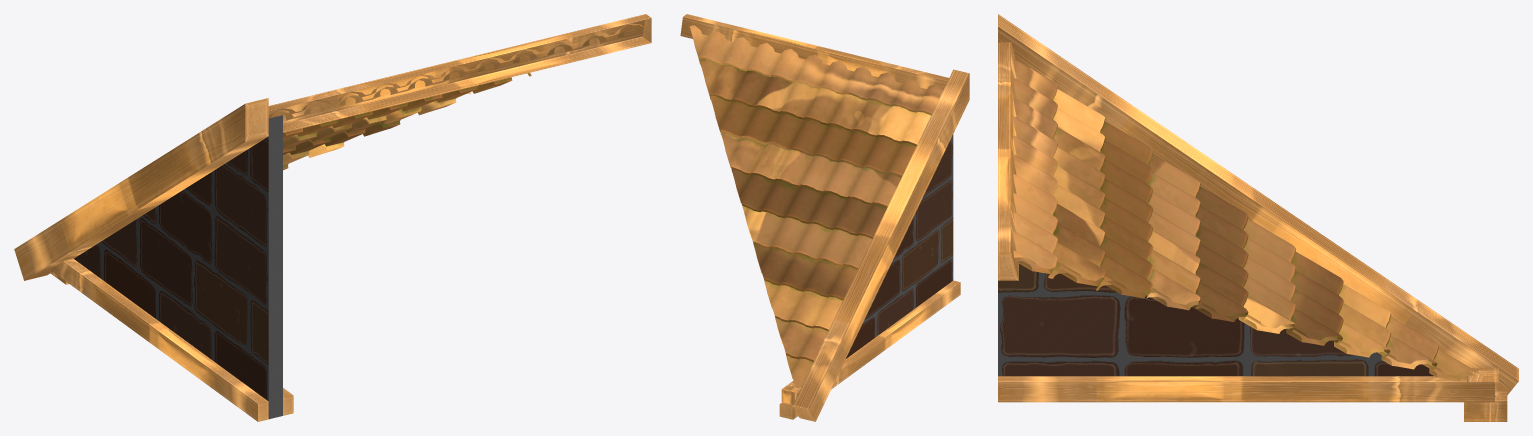
Rendered from SM_Roof_03.fbx.
3 views of the same model, side by side, from view 1: azimuth 30°, elevation 25°; view 2: azimuth 150°, elevation 25°; view 3: azimuth 270°, elevation 25° (orthographic). The views are drawn at different scales.
Parts seen in each view (by area): view 1: SM_Roof_03_LOD0; view 2: SM_Roof_03_LOD0; view 3: SM_Roof_03_LOD0.
Part boxes in pixels (box(x1,y1,x2,y2)): SM_Roof_03_LOD0: box(14, 14, 651, 421); SM_Roof_03_LOD0: box(680, 14, 969, 421); SM_Roof_03_LOD0: box(998, 14, 1518, 421).
Size of the model in its own units: 424 by 418 by 339.
